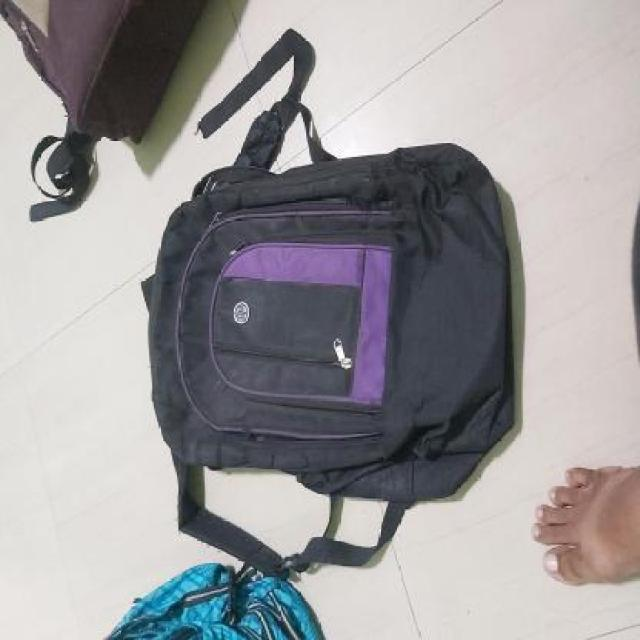backpack: (136, 29, 522, 585)
